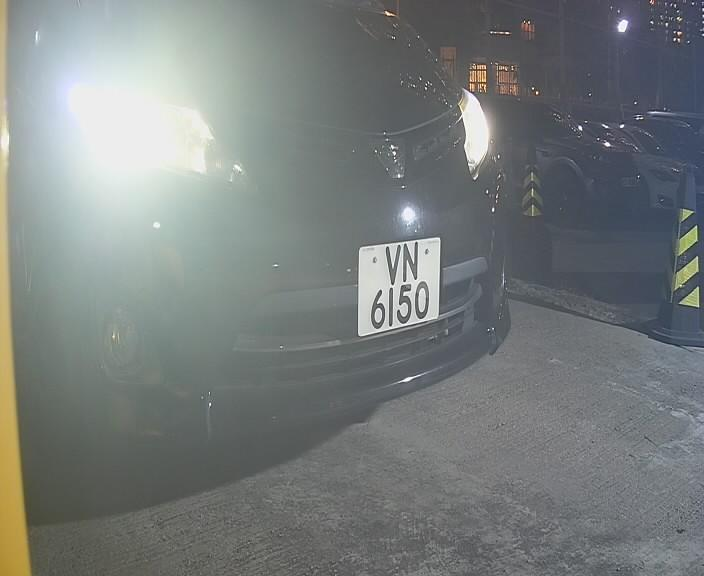Car: (23, 16, 560, 487)
License Plate: (349, 224, 447, 353)
